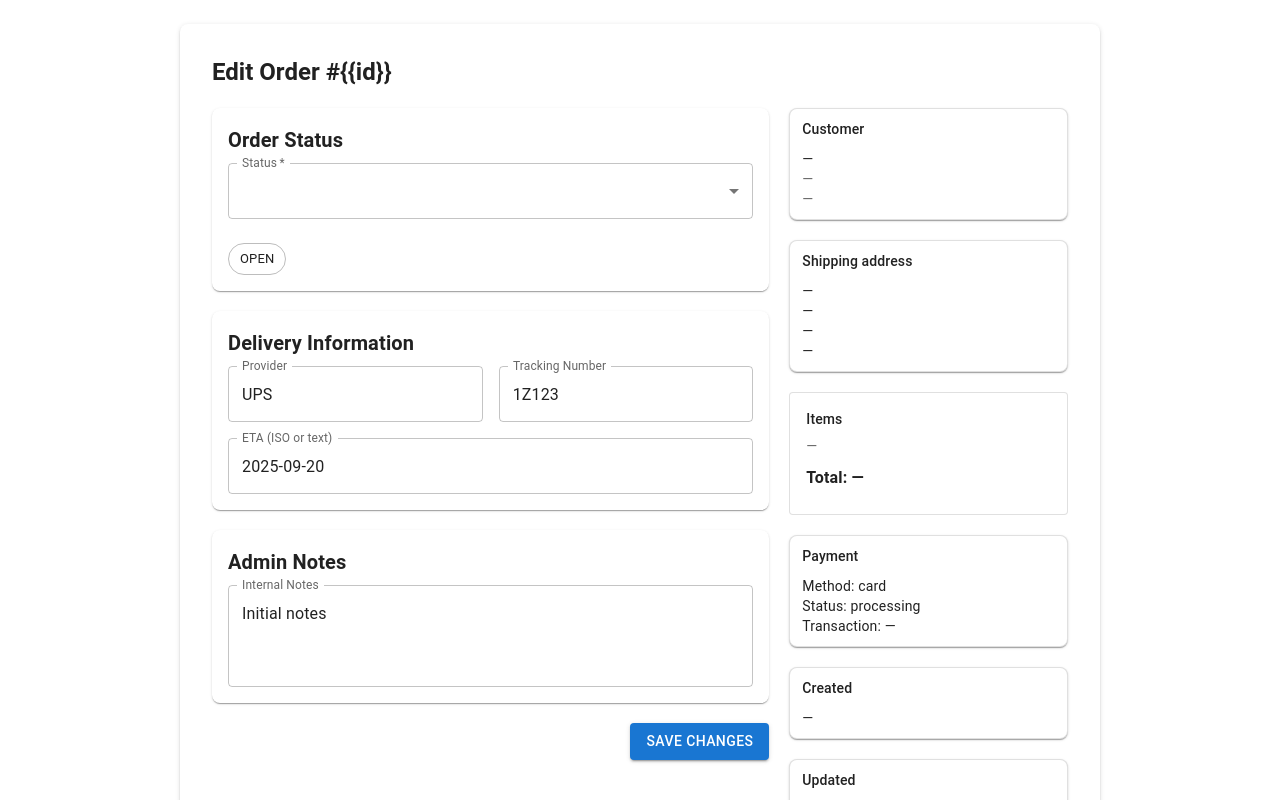
Test: EditOrderPage › shows snackbar on error
Click the button "Save Changes" at (700, 741), box [630,723,769,760]
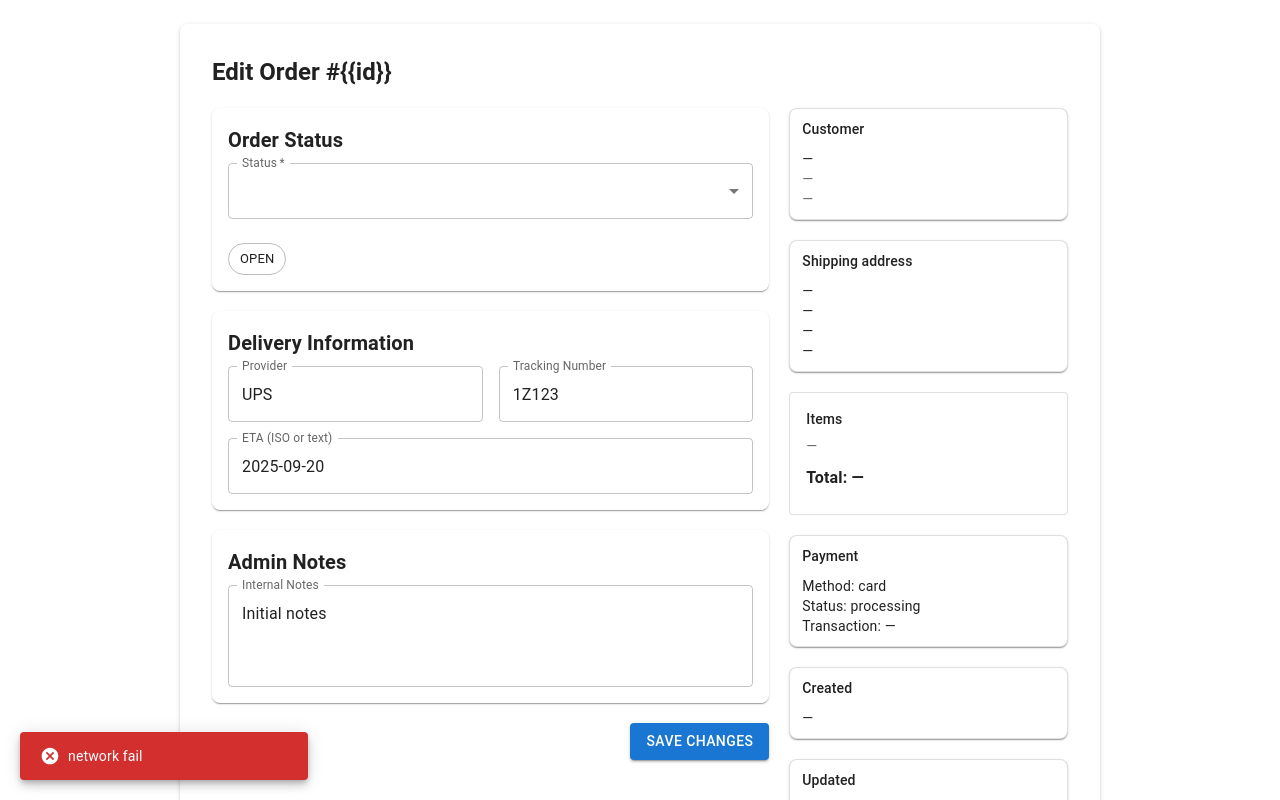
Check: the text "network fail" is shown, box [40,746,143,766]
